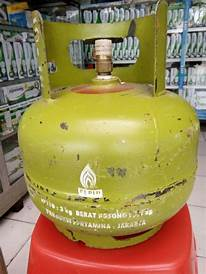gas_ijo: (18, 1, 199, 249)
